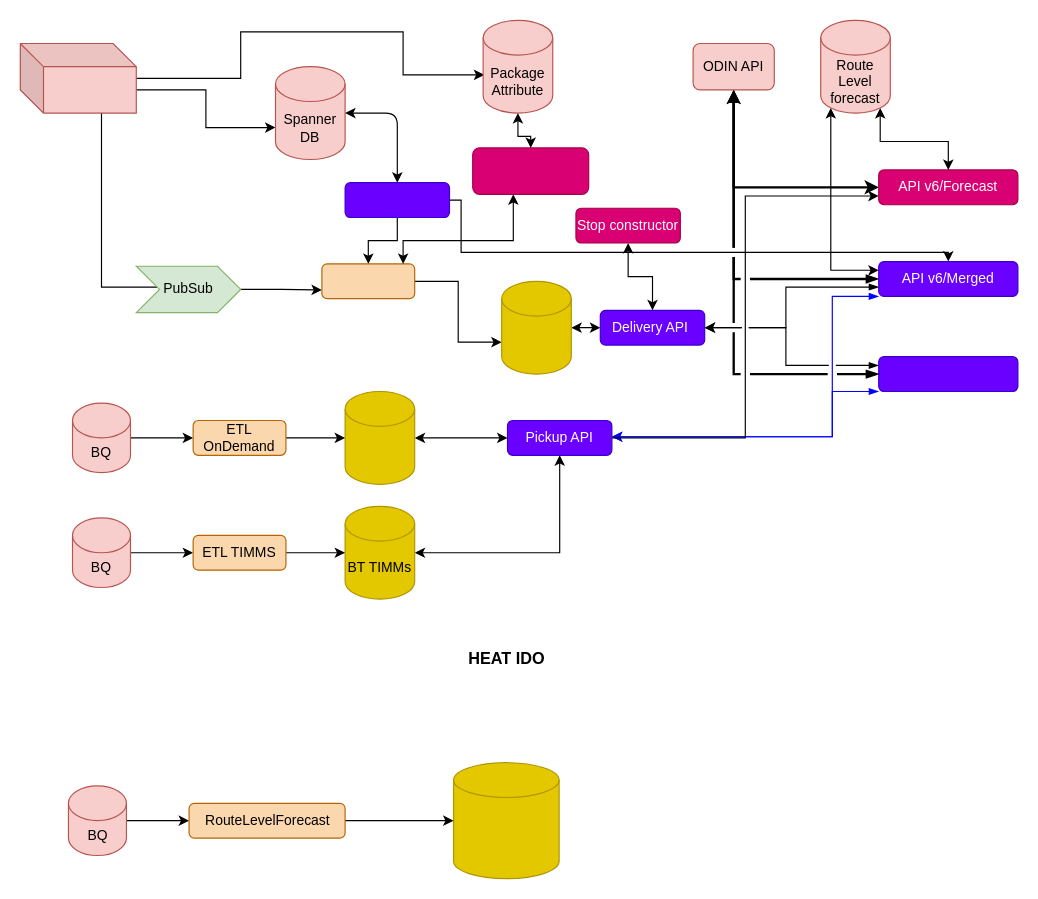
Image size: 1038x899. Some labels were removed from this diagram. The centre of each missing label's shape, as x and y in pixels:
API v6/Scanned: pixel 948 374
BT ETL: pixel 368 281
BT OnDemand: pixel 379 437
BT RouteLevelForecast: pixel 505 820
BT transitDel: pixel 536 327
GIO/ <Pkg>: pixel 77 77
Package Attribute API: pixel 530 170
Transit detail: pixel 396 199
